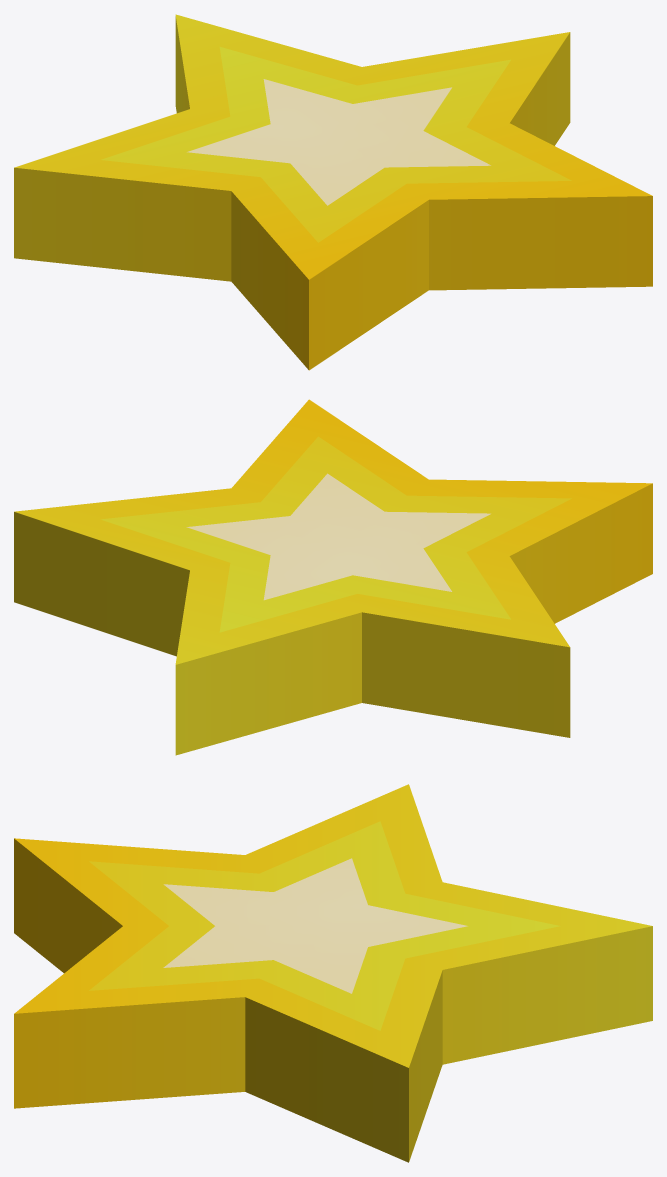
The model's file is Starfruit Slice.fbx.
3 renders of one model, top to bottom at view 1: azimuth 30°, elevation 25°; view 2: azimuth 150°, elevation 25°; view 3: azimuth 270°, elevation 25°, orthographic. The views are drawn at different scales.
Parts seen in each view (by area): view 1: Starfruit Slice; view 2: Starfruit Slice; view 3: Starfruit Slice.
Boxes of the visible parts, x1,y1,x2,y2 form: Starfruit Slice: [14, 14, 652, 370]; Starfruit Slice: [14, 399, 652, 755]; Starfruit Slice: [14, 784, 652, 1162].
Bounding box in the file's own units: 16.4 × 2.55 × 15.6.
